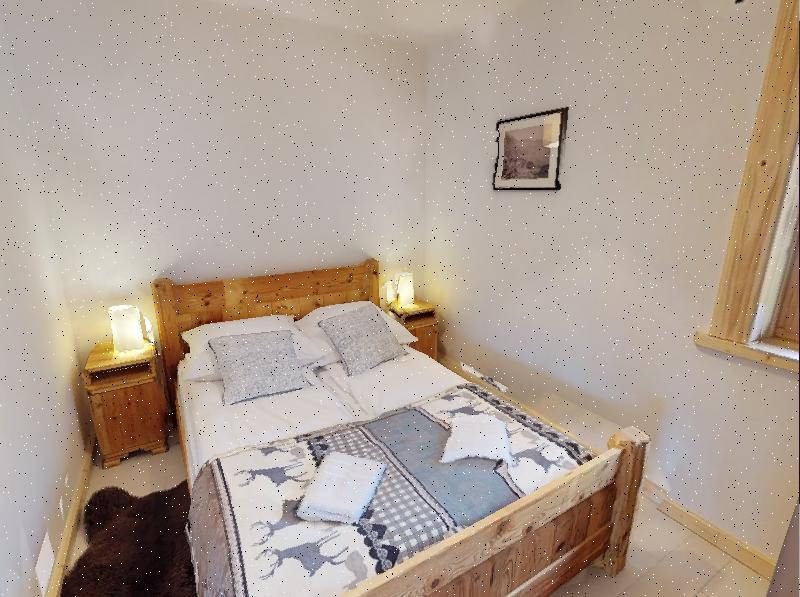bed: (146, 264, 659, 597)
